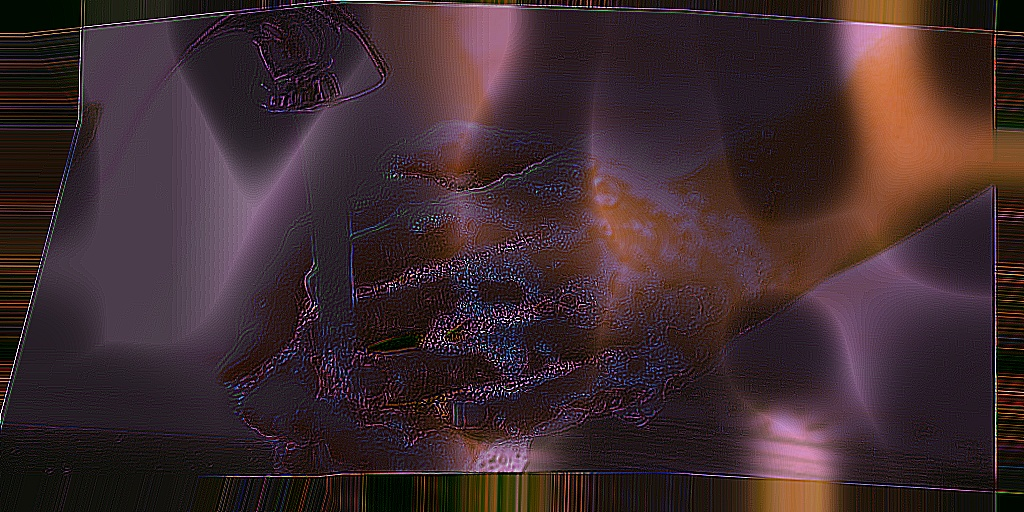washing hand: (162, 42, 829, 465)
